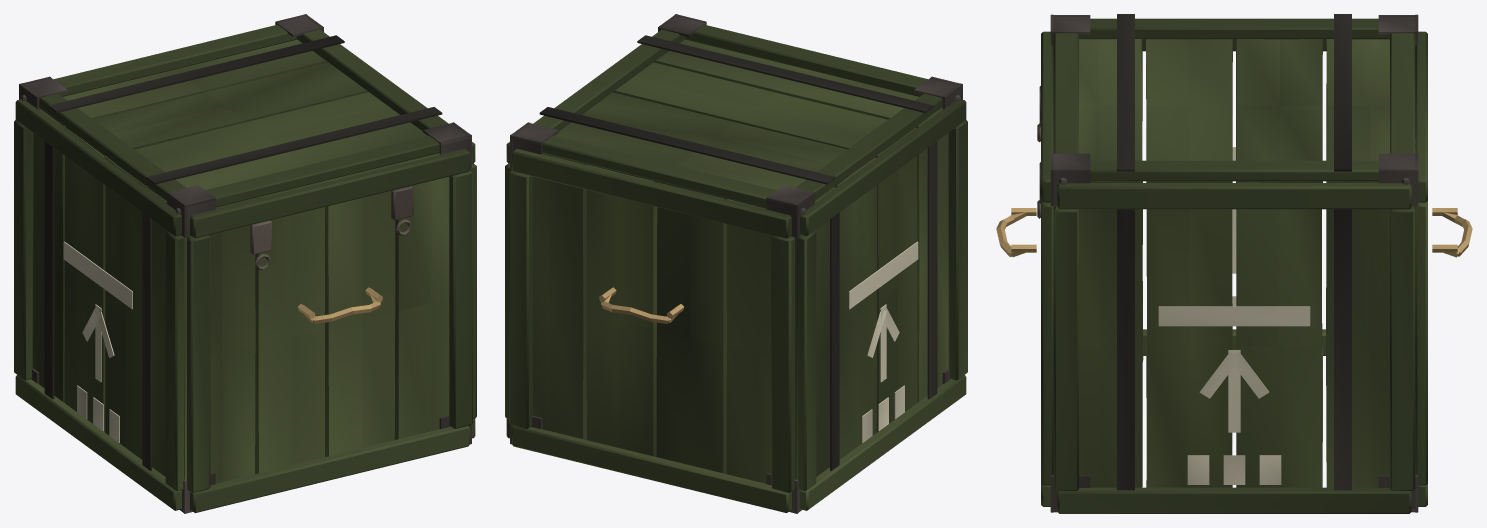
The model's file is crate_b.glb.
The picture shows the model from 3 angles, left to right: view 1: azimuth 30°, elevation 25°; view 2: azimuth 150°, elevation 25°; view 3: azimuth 270°, elevation 25°; orthographic projection. The views are drawn at different scales.
Visible parts, largest first — view 1: Body.001; view 2: Body.001; view 3: Body.001.
Part boxes in pixels (x1,y1,x2,y2): Body.001: (14,14,476,513); Body.001: (505,14,967,513); Body.001: (996,14,1472,513).
Size of the model in its own units: 1.07 by 1.05 by 1.32.
